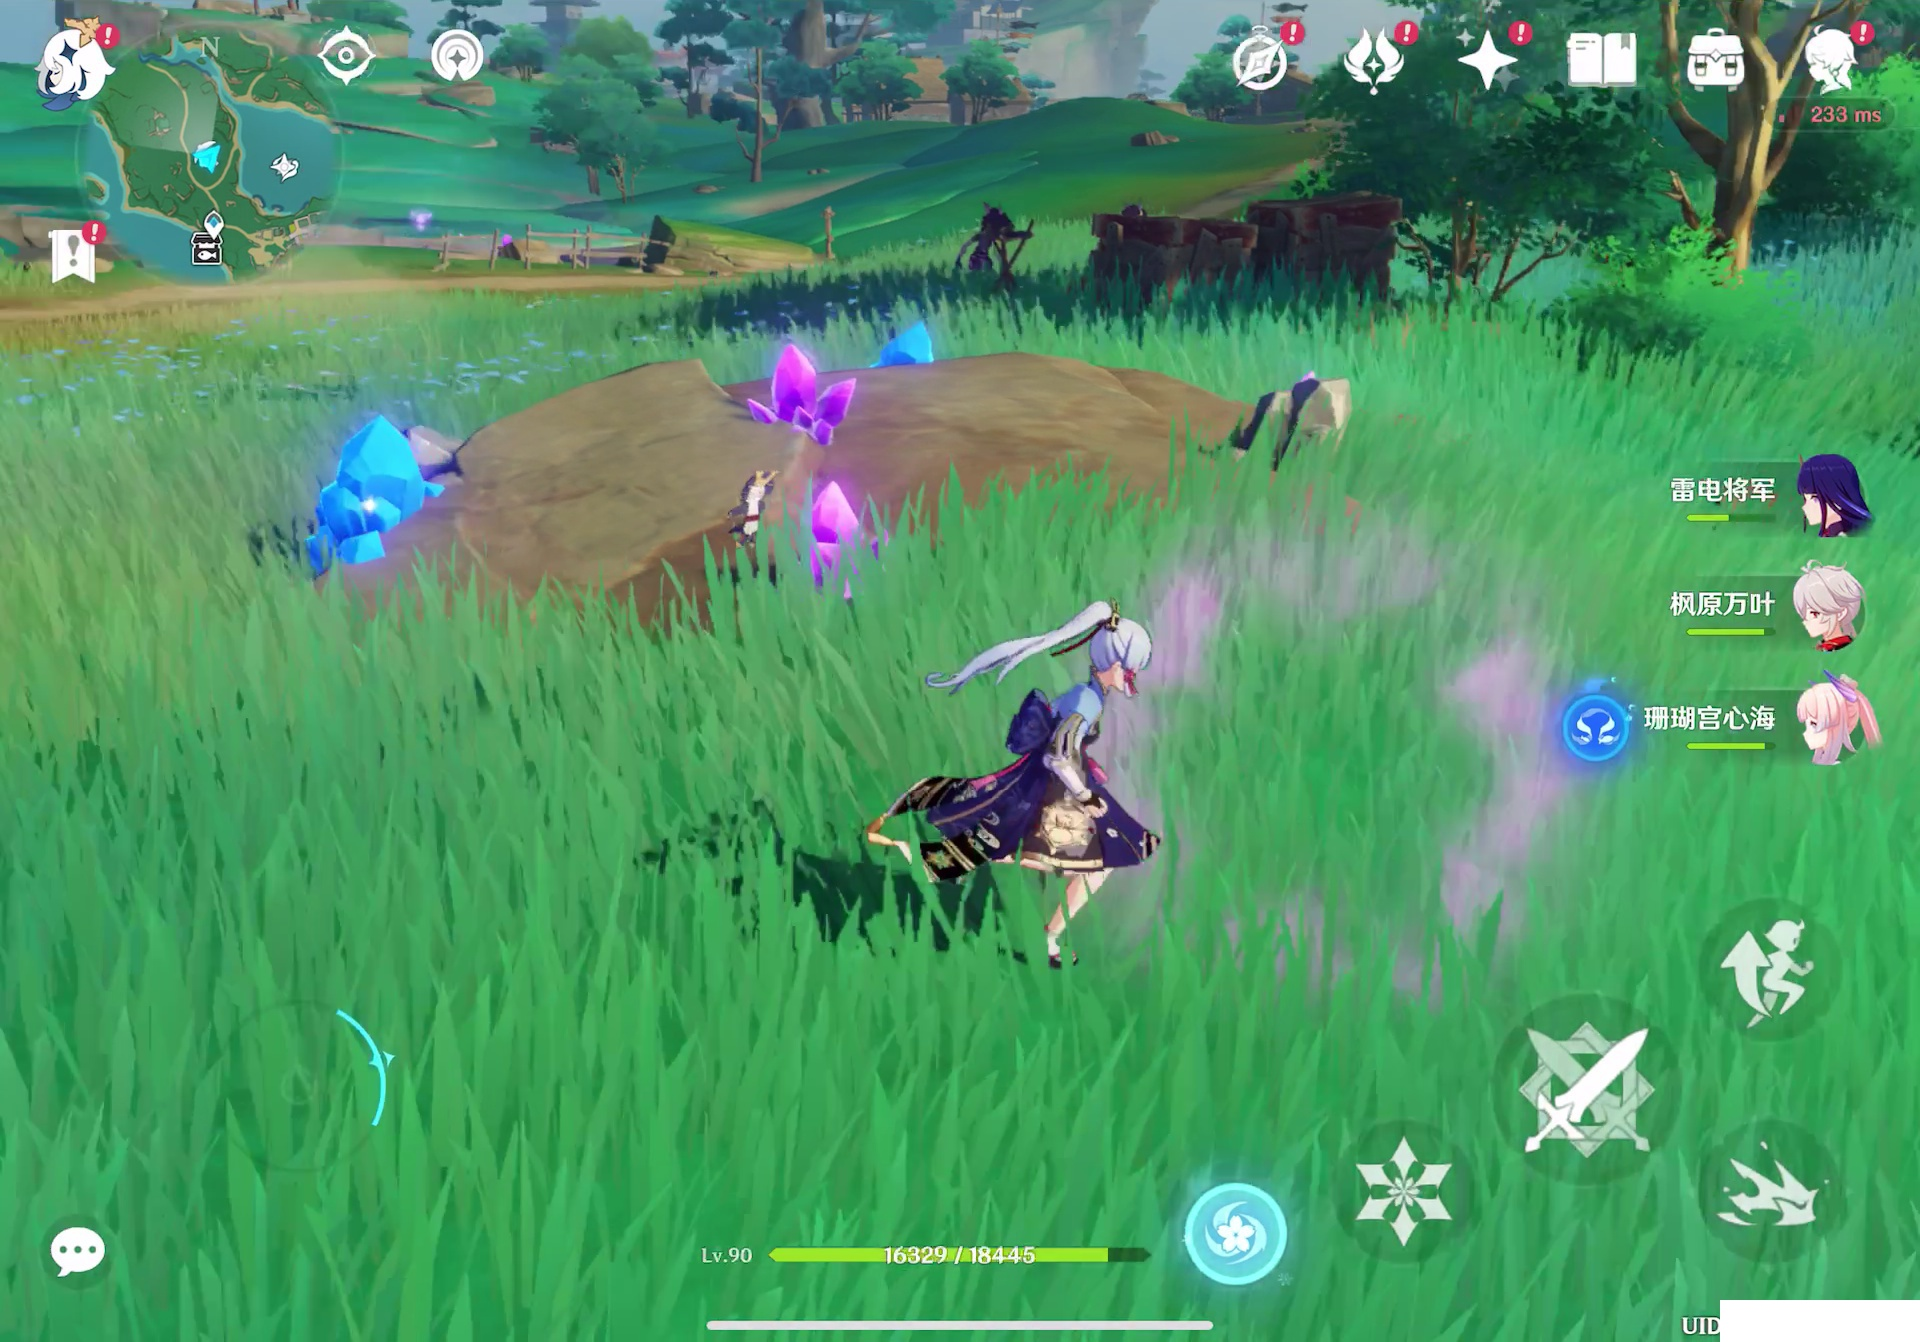丘丘人: (966, 200, 999, 279)
白铁矿石: (1244, 375, 1355, 476)
神里绫龟: (937, 591, 1137, 953)
紫矿石: (778, 489, 906, 579), (767, 346, 864, 443)
蓝矿石: (314, 413, 439, 556), (880, 315, 950, 372)
